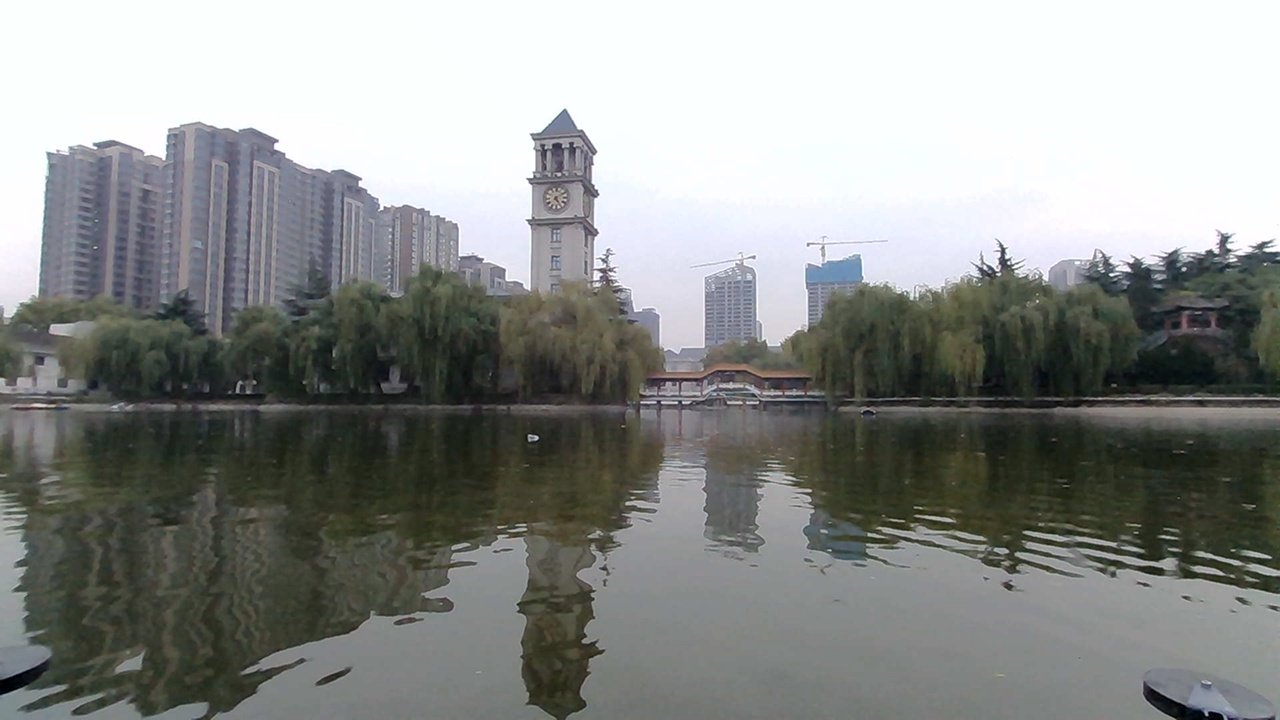bottle: (525, 424, 553, 446)
